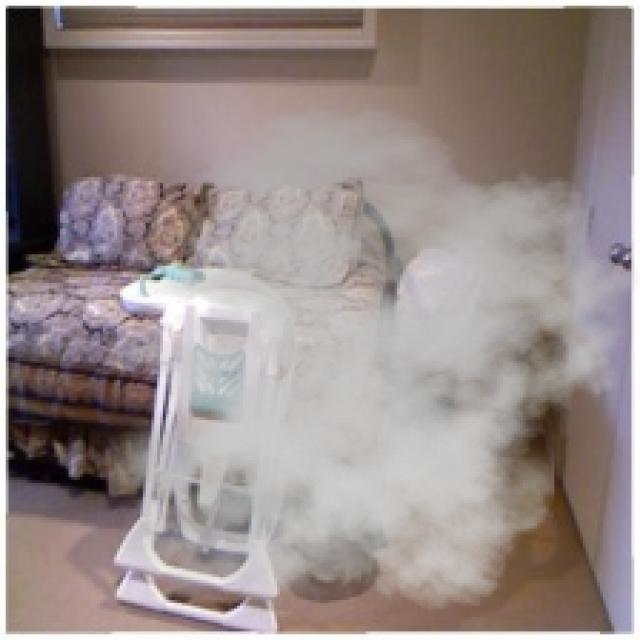smoke: (83, 106, 637, 628)
